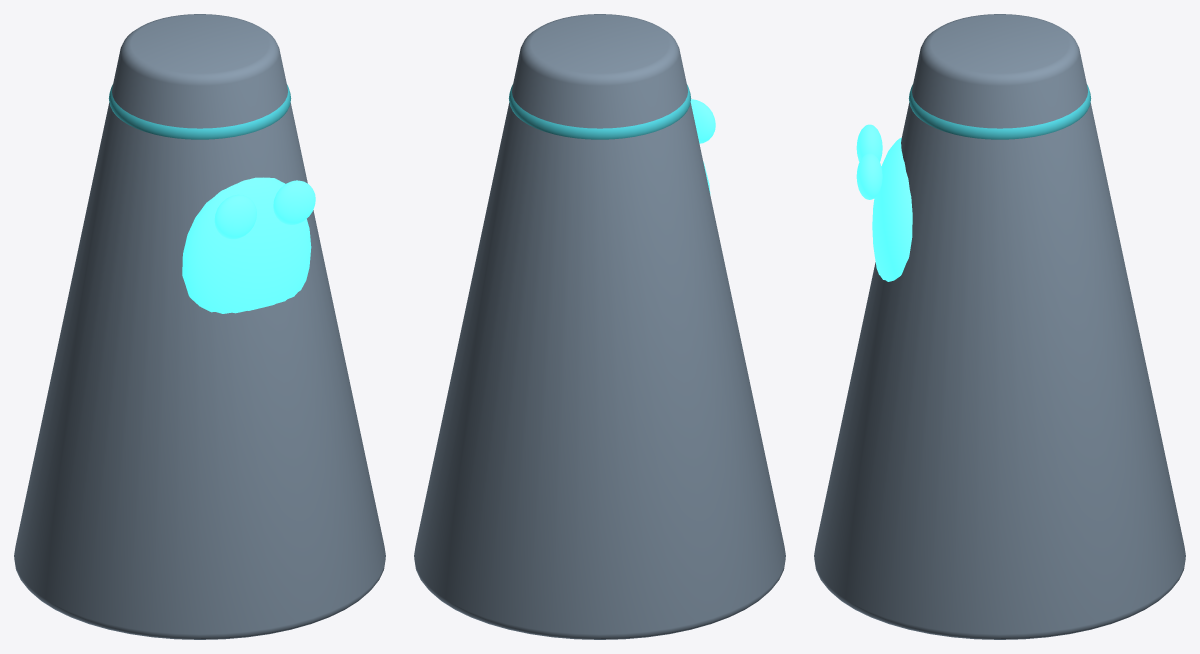
File: ooze_v3.glb
The picture shows the model from 3 angles, left to right: view 1: azimuth 30°, elevation 25°; view 2: azimuth 150°, elevation 25°; view 3: azimuth 270°, elevation 25°; orthographic projection.
Visible parts, largest first — view 1: SLIME_COLUMN_PRIMARY, SLIME_CORE_EMISSIVE, SLIME_RING_ACCENT.002, EYE_EMISSIVE.001, EYE_EMISSIVE; view 2: SLIME_COLUMN_PRIMARY, SLIME_RING_ACCENT.002, EYE_EMISSIVE; view 3: SLIME_COLUMN_PRIMARY, SLIME_CORE_EMISSIVE, SLIME_RING_ACCENT.002, EYE_EMISSIVE.001, EYE_EMISSIVE.
Part boxes in pixels (<box>): SLIME_COLUMN_PRIMARY: <box>14,14,385,639</box>; SLIME_CORE_EMISSIVE: <box>182,177,311,313</box>; SLIME_RING_ACCENT.002: <box>108,84,291,139</box>; EYE_EMISSIVE.001: <box>273,180,315,224</box>; EYE_EMISSIVE: <box>214,194,256,239</box>; SLIME_COLUMN_PRIMARY: <box>414,14,785,639</box>; SLIME_RING_ACCENT.002: <box>508,84,691,139</box>; EYE_EMISSIVE: <box>690,99,715,143</box>; SLIME_COLUMN_PRIMARY: <box>814,14,1185,639</box>; SLIME_CORE_EMISSIVE: <box>872,137,912,281</box>; SLIME_RING_ACCENT.002: <box>908,84,1091,139</box>; EYE_EMISSIVE.001: <box>856,153,882,199</box>; EYE_EMISSIVE: <box>856,124,882,161</box>.
Size of the model in its own units: 1.43 by 2.2 by 1.43.
